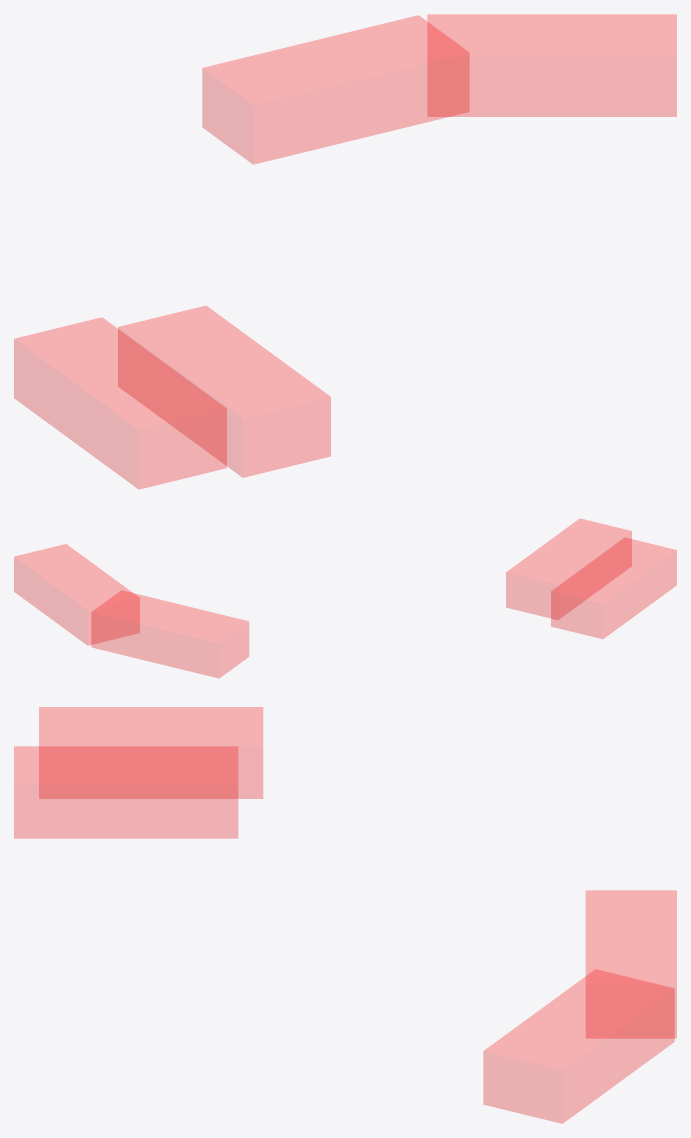
File: s03a_td2-obstacles.glb
The picture shows the model from 3 angles, top to bottom: view 1: azimuth 30°, elevation 25°; view 2: azimuth 150°, elevation 25°; view 3: azimuth 270°, elevation 25°; orthographic projection. The views are drawn at different scales.
Visible parts, largest first — view 1: boulder-colonly (×4); view 2: boulder-colonly (×4); view 3: boulder-colonly (×4).
Part boxes in pixels (left/top/right/bottom): boulder-colonly (×4): left=14, top=14, right=676, bottom=489; boulder-colonly (×4): left=14, top=518, right=676, bottom=678; boulder-colonly (×4): left=14, top=707, right=676, bottom=1123.
Bounding box in the file's own units: 29.15 × 2 × 22.47.
